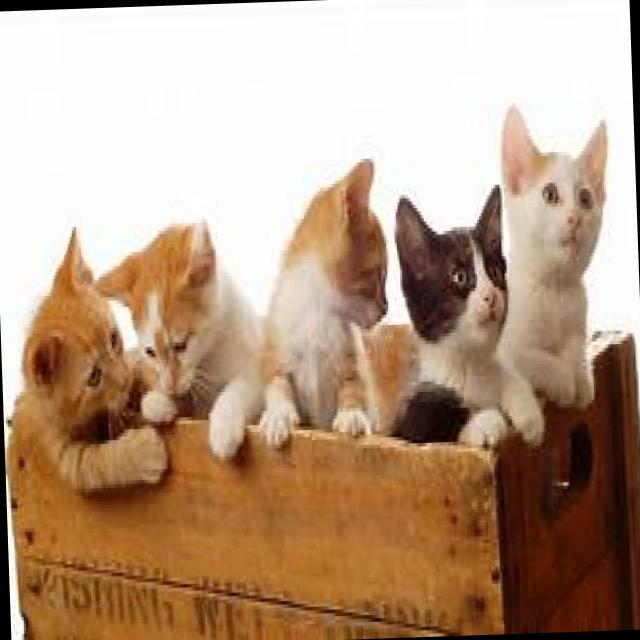cat: (386, 178, 544, 464), (250, 152, 394, 456), (13, 225, 169, 504), (92, 215, 264, 468), (492, 103, 617, 409)
